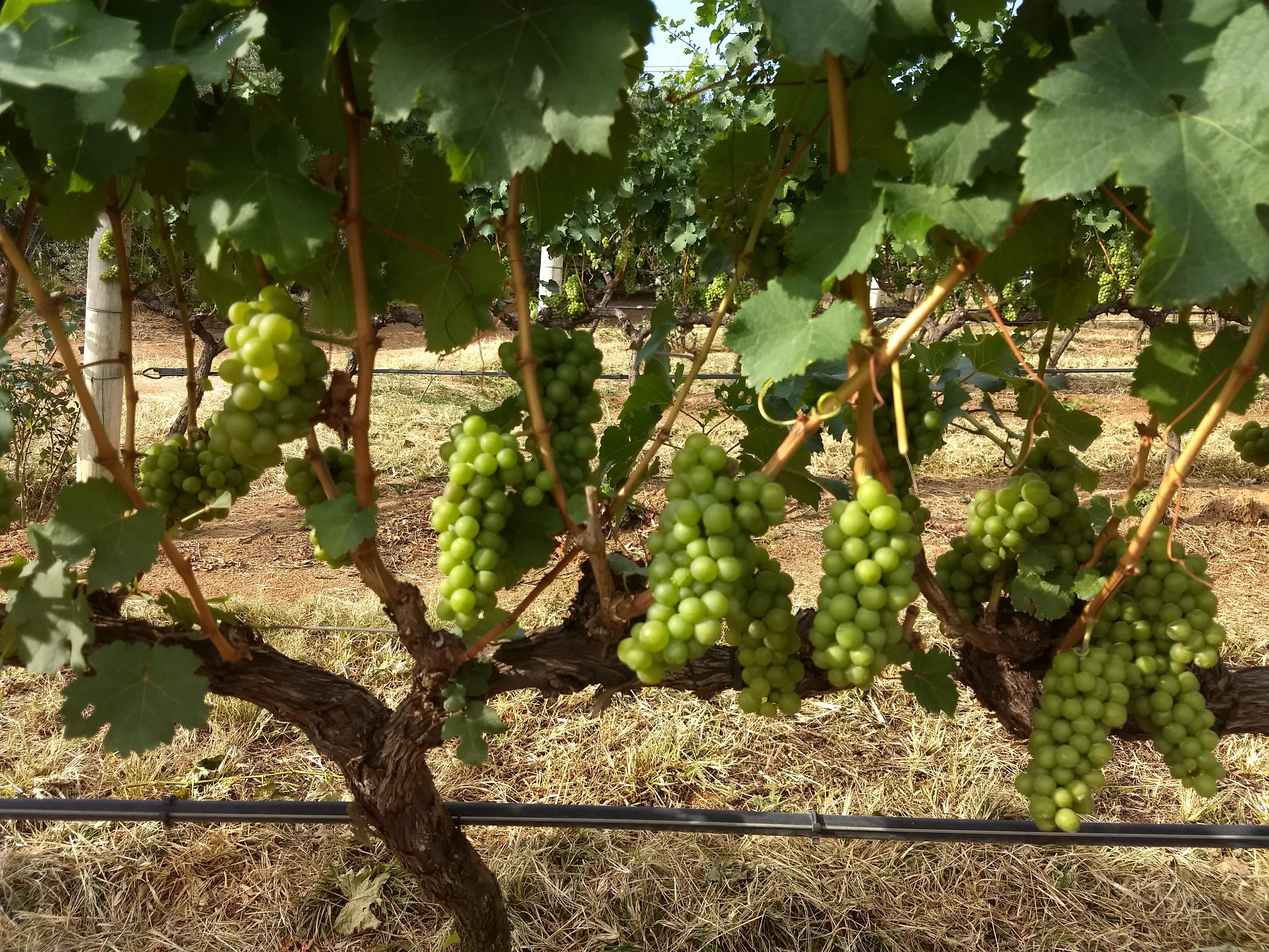leaf: (1023, 0, 1268, 304), (372, 0, 656, 181), (189, 104, 338, 273), (61, 641, 208, 755), (726, 273, 862, 387), (898, 52, 1009, 185), (386, 238, 505, 352), (46, 478, 164, 590), (0, 0, 142, 92), (7, 525, 93, 673), (1131, 323, 1245, 433), (789, 160, 884, 284), (761, 0, 877, 62), (502, 495, 564, 570), (305, 494, 375, 558), (442, 700, 506, 766), (900, 647, 957, 715), (1009, 570, 1074, 620), (1230, 380, 1255, 413), (1224, 4, 1236, 13), (258, 98, 263, 103), (1225, 13, 1228, 15)
